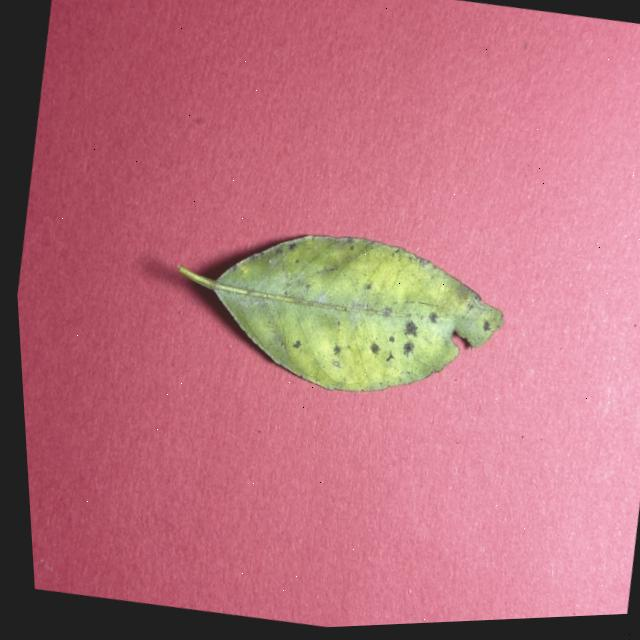sooty_mold: (179, 235, 502, 390)
